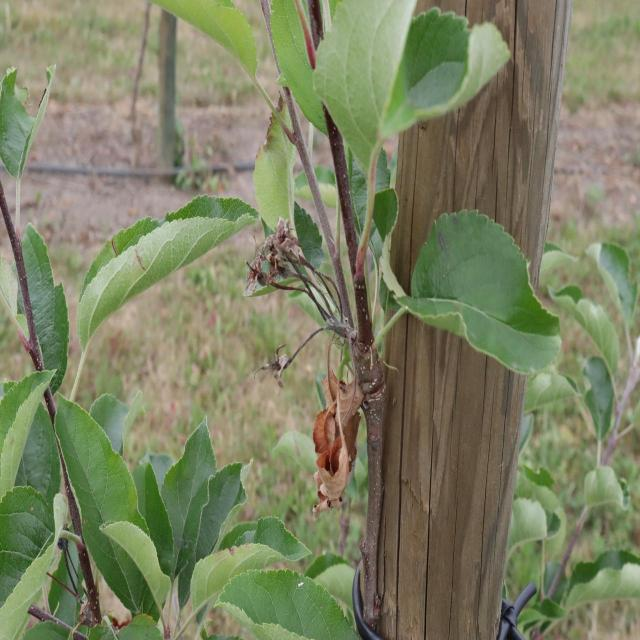-FireBlight-: (306, 331, 368, 515)
